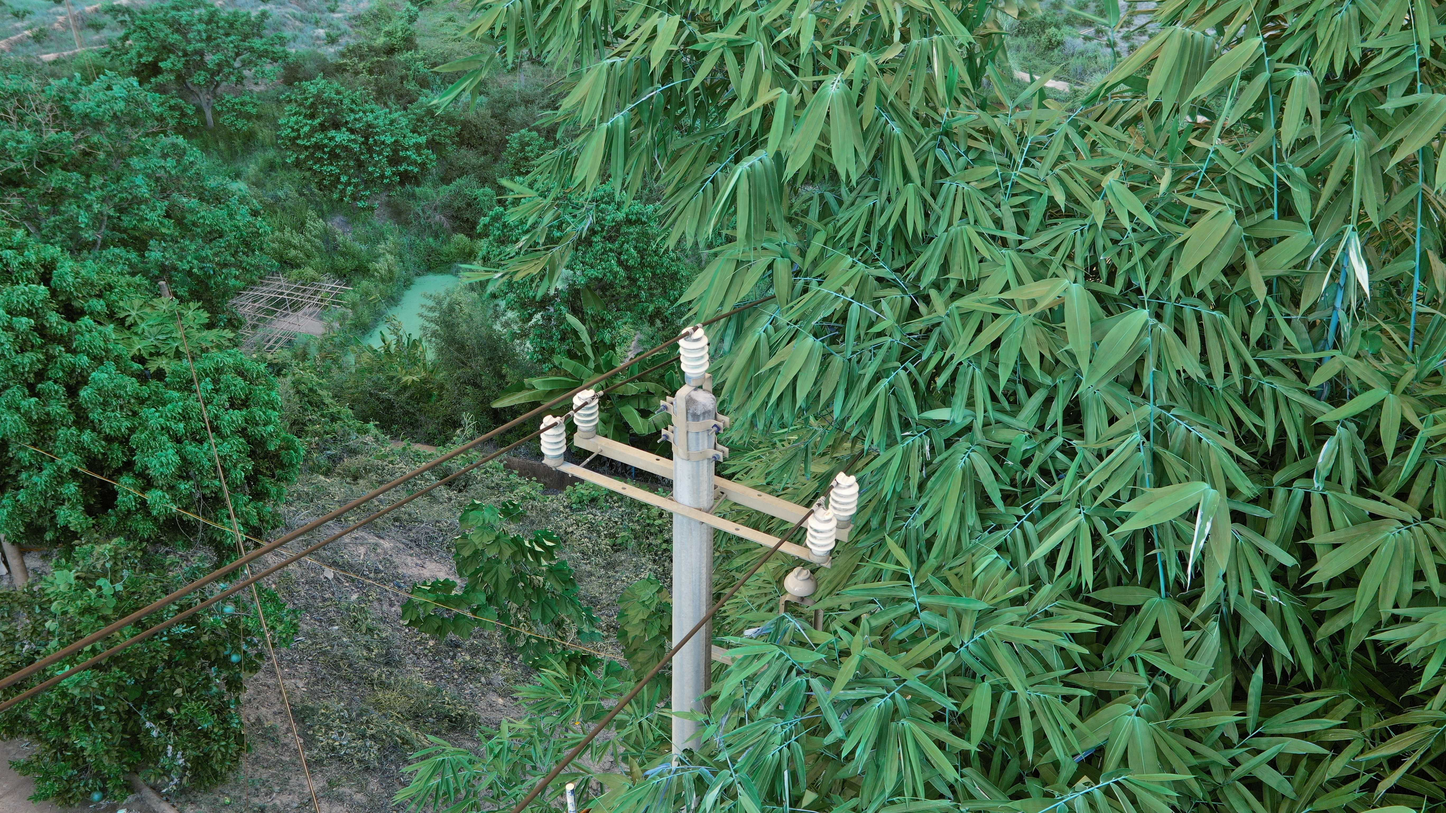severe_soiling_no_discharge_whole: (804, 508, 840, 562), (828, 471, 861, 527), (538, 412, 567, 467), (572, 386, 600, 438), (809, 495, 836, 524), (542, 412, 575, 429)
